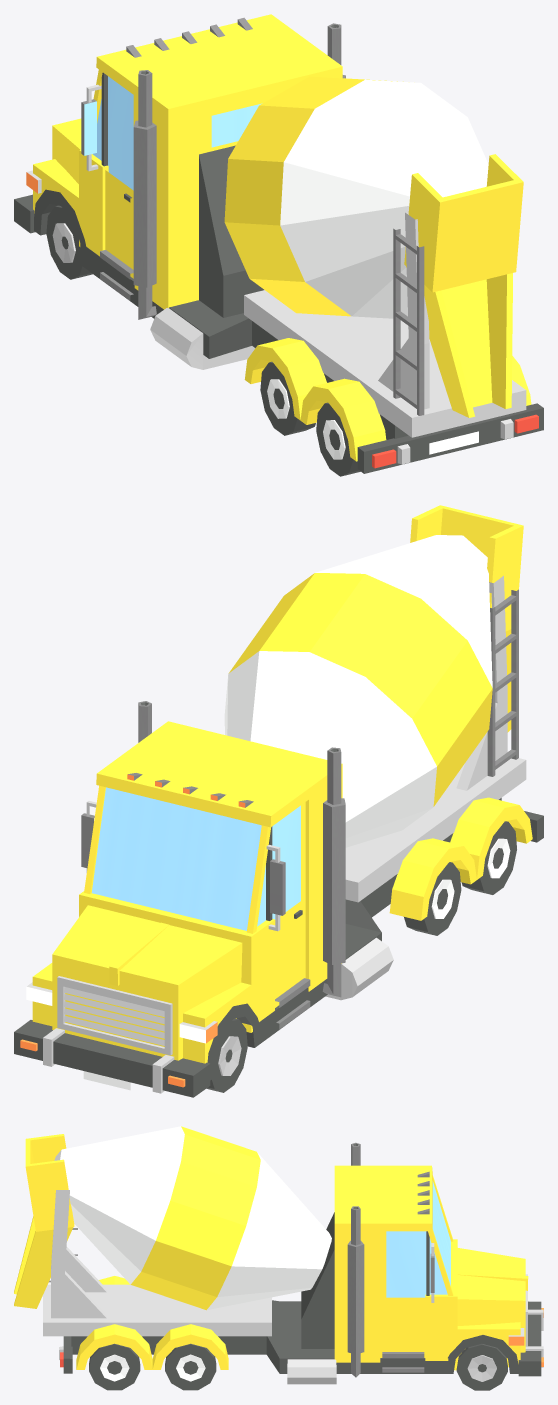
The model's file is transport_truck.007.glb.
3 views of the same model, one above another, from view 1: azimuth 30°, elevation 25°; view 2: azimuth 150°, elevation 25°; view 3: azimuth 270°, elevation 25° (orthographic). The views are drawn at different scales.
Visible parts, largest first — view 1: transport_truck.007(Clone); view 2: transport_truck.007(Clone); view 3: transport_truck.007(Clone).
Boxes of the visible parts, box(x1,y1,x2,y2) form: transport_truck.007(Clone): box(14, 14, 543, 476); transport_truck.007(Clone): box(14, 505, 543, 1097); transport_truck.007(Clone): box(14, 1126, 543, 1390).
Bounding box in the file's own units: 2.13 × 3.22 × 6.75.
Materials: 1 (1 with a texture image).
